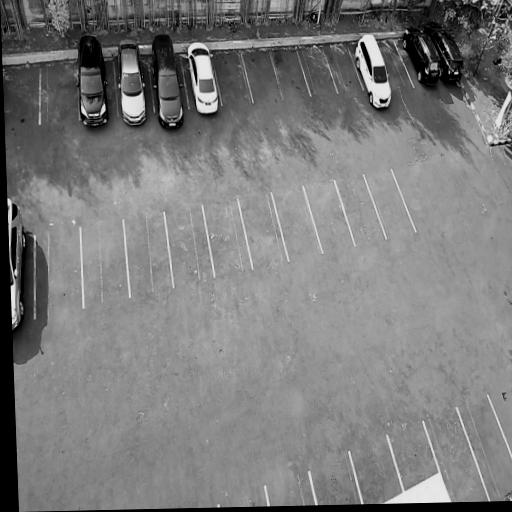Car: (148, 33, 186, 130), (76, 32, 111, 129), (351, 33, 393, 112), (397, 20, 443, 89), (115, 37, 149, 130), (7, 193, 28, 335), (185, 39, 222, 118), (423, 17, 465, 83)
Space Available: (458, 396, 512, 502), (424, 411, 488, 500), (81, 219, 129, 307), (35, 229, 82, 317), (125, 212, 173, 297), (165, 206, 214, 287), (204, 199, 252, 278), (239, 193, 288, 270), (272, 187, 322, 261), (304, 180, 354, 252), (350, 435, 402, 504), (364, 169, 415, 237), (336, 175, 385, 245), (388, 424, 438, 489), (311, 452, 361, 505), (3, 68, 40, 129), (41, 65, 79, 124), (212, 53, 253, 104), (243, 51, 283, 102), (271, 50, 310, 99), (323, 47, 363, 93), (298, 49, 337, 95), (378, 42, 413, 92), (266, 473, 316, 506)
